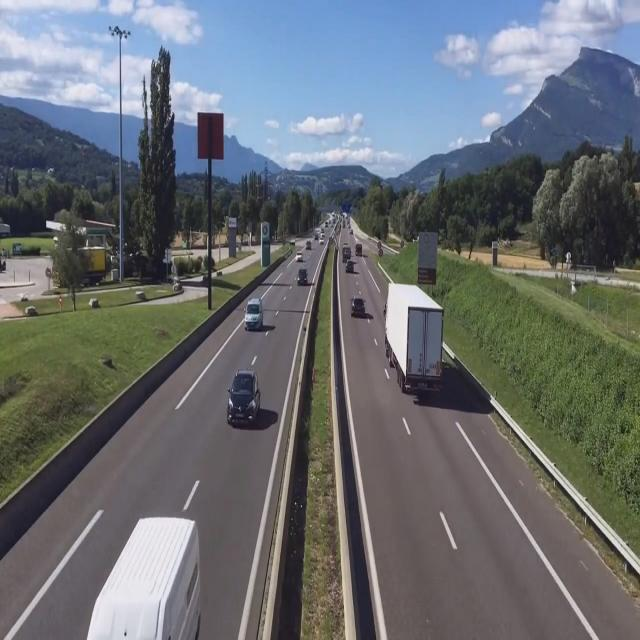bus: (73, 512, 205, 638)
car: (224, 371, 260, 431), (242, 296, 263, 331), (351, 294, 366, 318), (297, 266, 308, 287)
truck: (386, 280, 444, 398)
